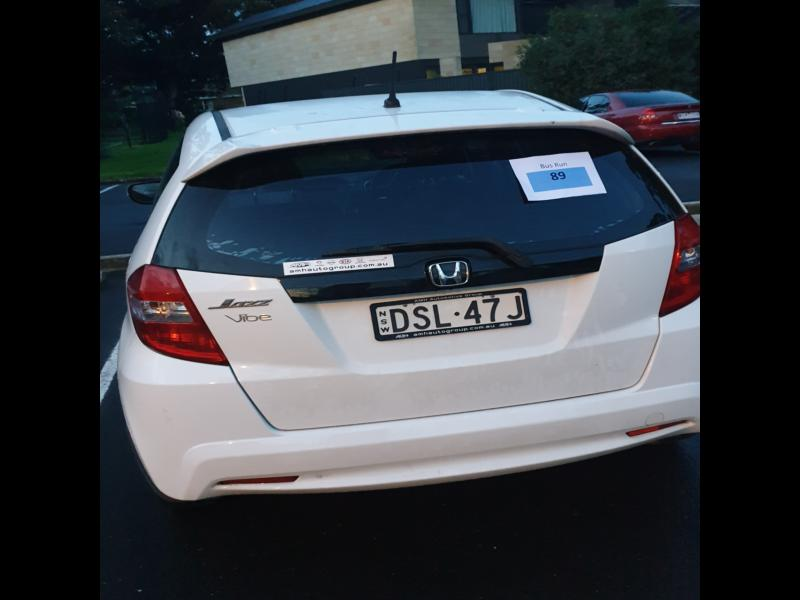BusRun: (531, 166, 596, 192)
PlateNo: (374, 289, 529, 340)
